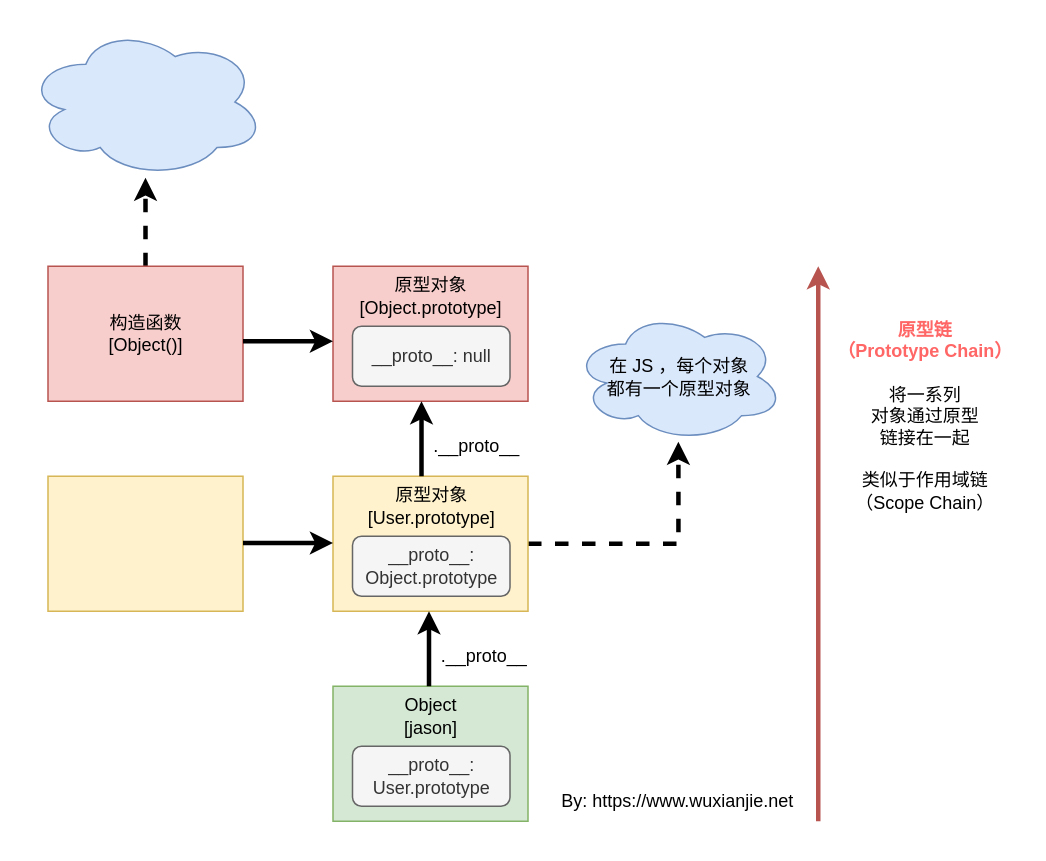
This 1046x861 diagram has some shape labels left out. The shapes that lost their labels are listed below. From the top down, each one's centre as x and y in pixels, then its label:
At (x=145, y=101): "内建的构造函数， 用于对象字面量： {...} === new Object(...)".
At (x=144, y=543): "构造函数 [User()]".
